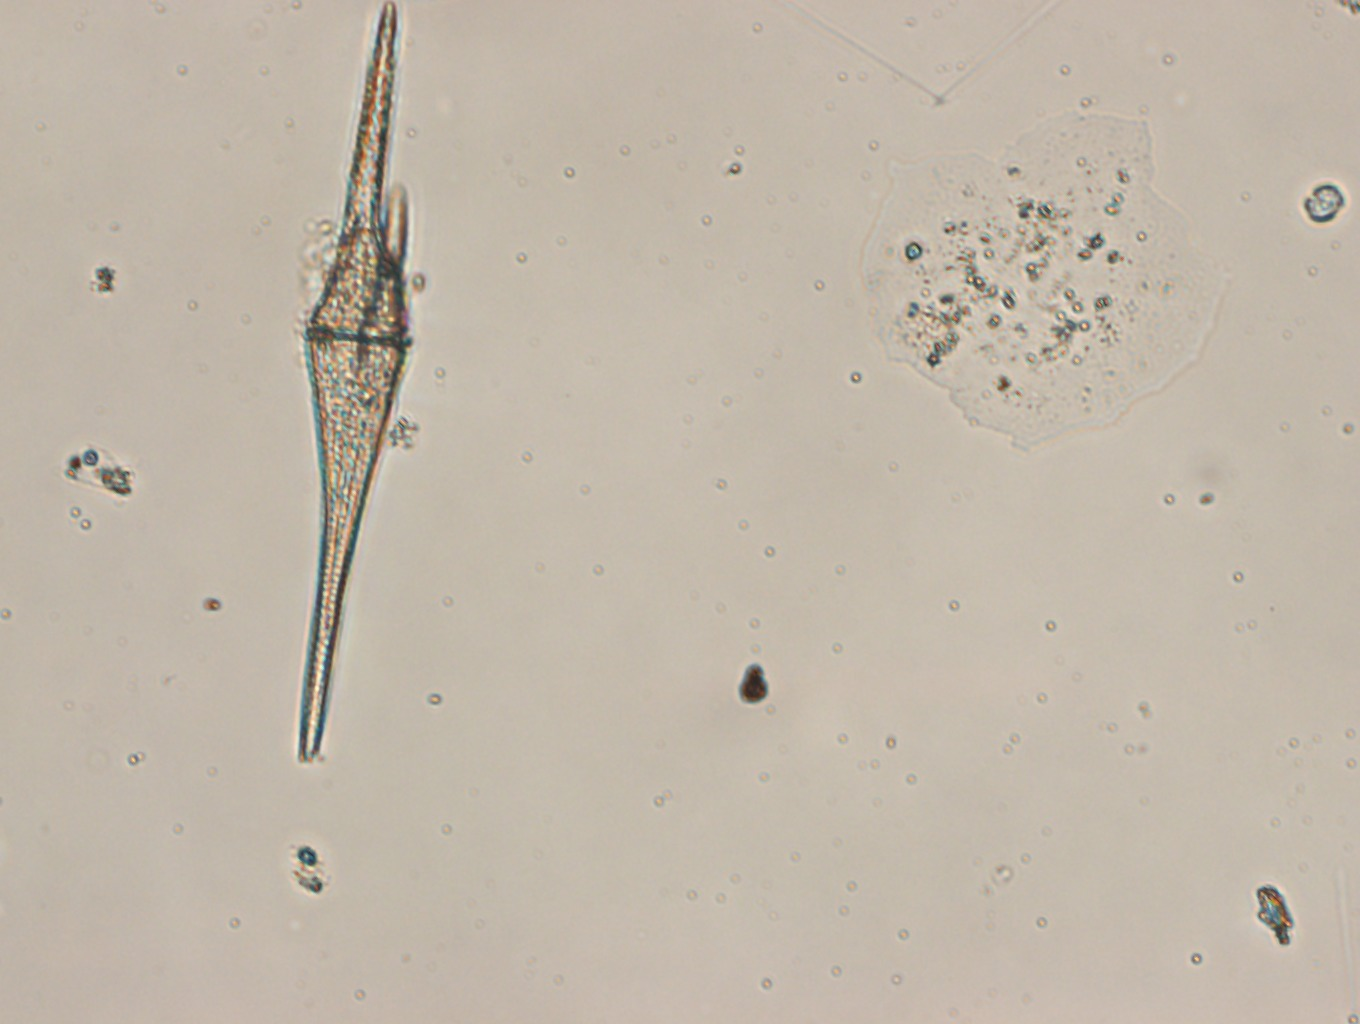ceratium furca: (294, 1, 413, 766)
